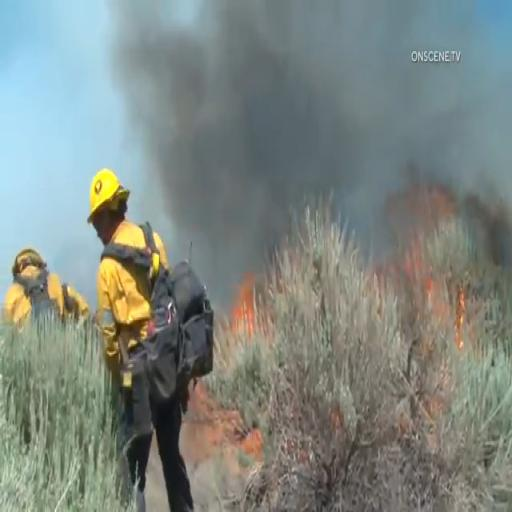fire: (178, 4, 410, 231), (225, 262, 277, 370)
